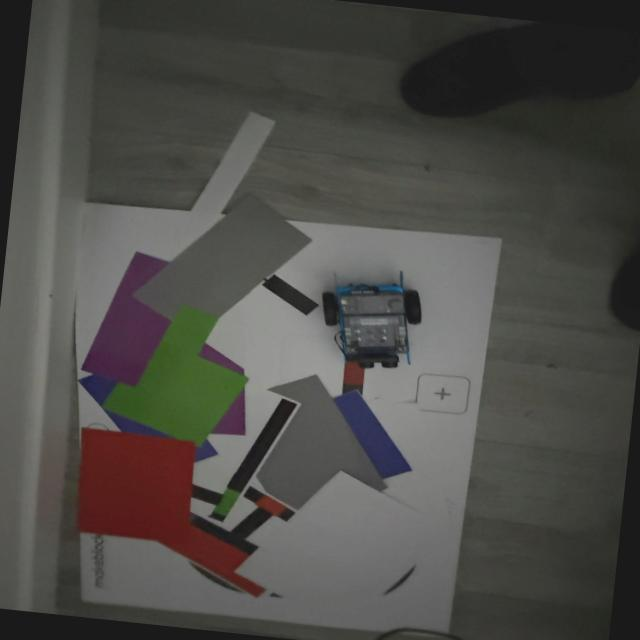mbot-detection: (308, 258, 434, 380)
